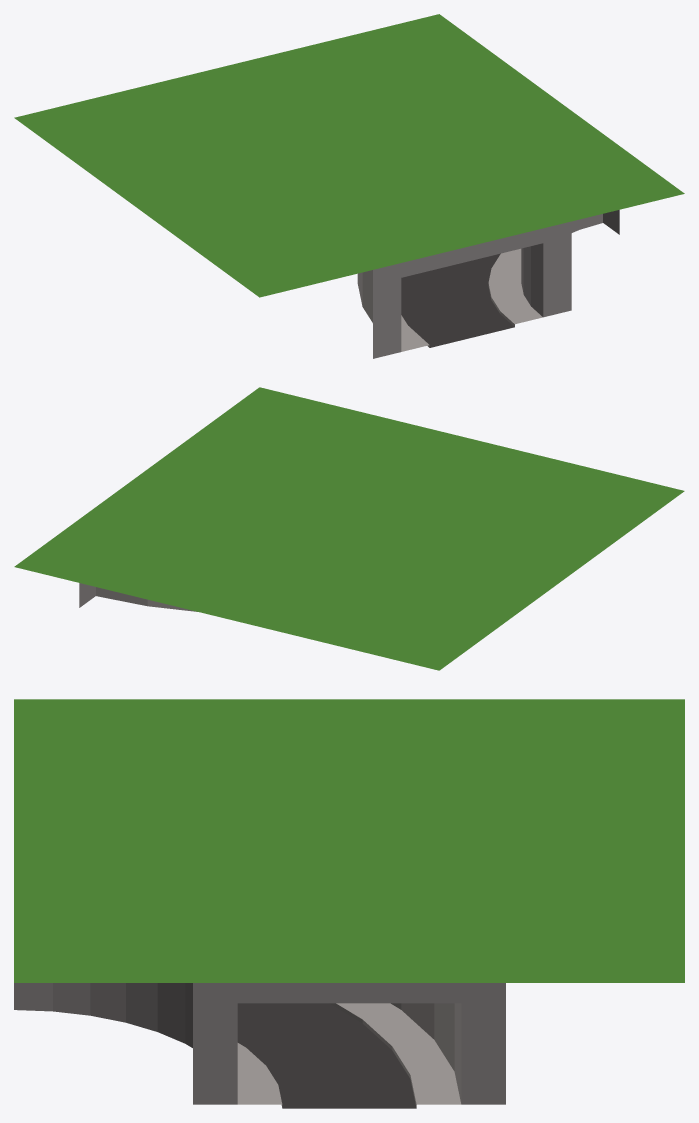
File: tiles-nb_tile-road-tunnel-curve-nb.fbx
3 views of the same model, one above another, from view 1: azimuth 30°, elevation 25°; view 2: azimuth 150°, elevation 25°; view 3: azimuth 270°, elevation 25° (orthographic). The views are drawn at different scales.
Parts seen in each view (by area): view 1: tiles_nb_tile_road_tunnel_curve_nb; view 2: tiles_nb_tile_road_tunnel_curve_nb; view 3: tiles_nb_tile_road_tunnel_curve_nb.
Boxes of the visible parts, left/top/right/bottom form: tiles_nb_tile_road_tunnel_curve_nb: left=14, top=14, right=684, bottom=358; tiles_nb_tile_road_tunnel_curve_nb: left=14, top=387, right=684, bottom=670; tiles_nb_tile_road_tunnel_curve_nb: left=14, top=699, right=684, bottom=1108.
Bounding box in the file's own units: 200 × 41.33 × 200.
